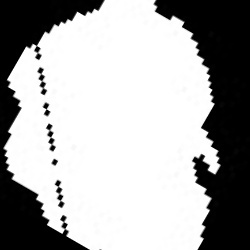spot: (7, 4, 220, 249)
